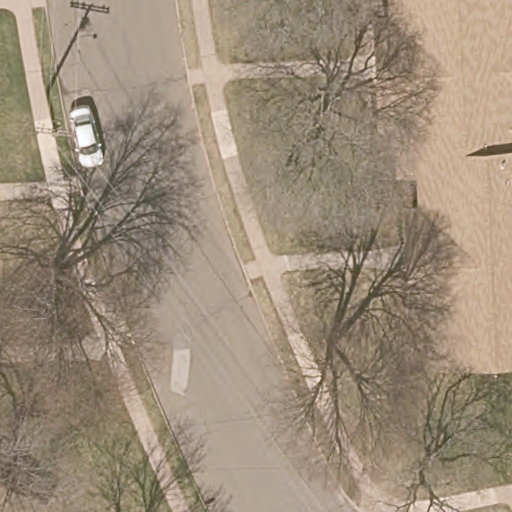DT: (34, 90, 76, 139)
